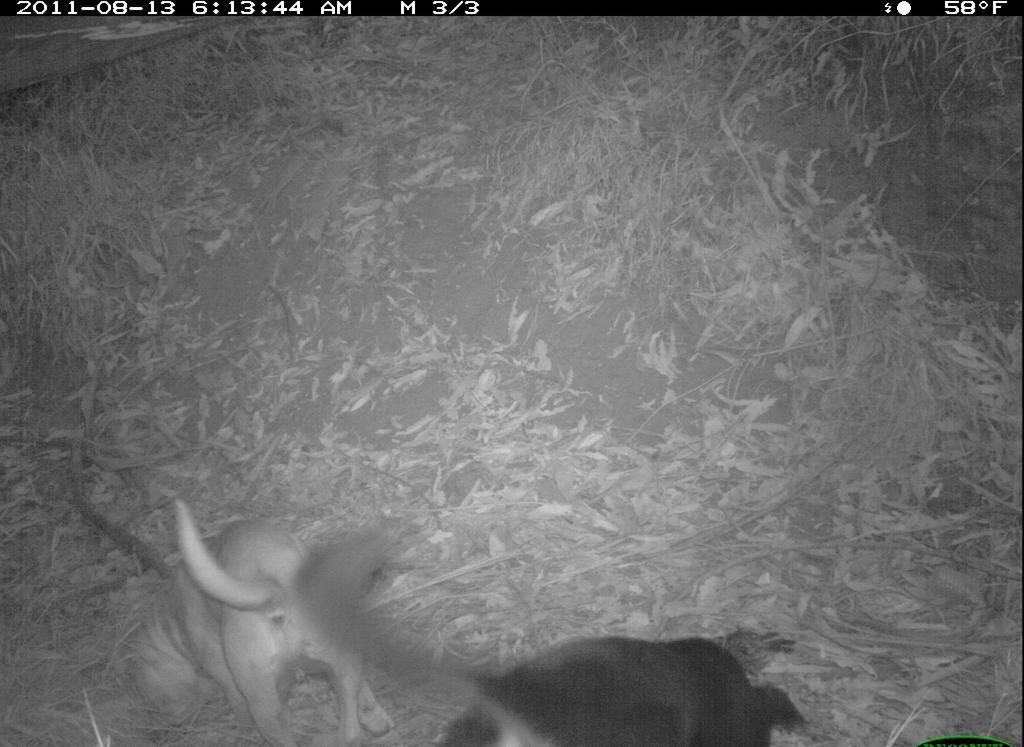dog: (378, 525, 822, 747), (103, 500, 392, 747)
